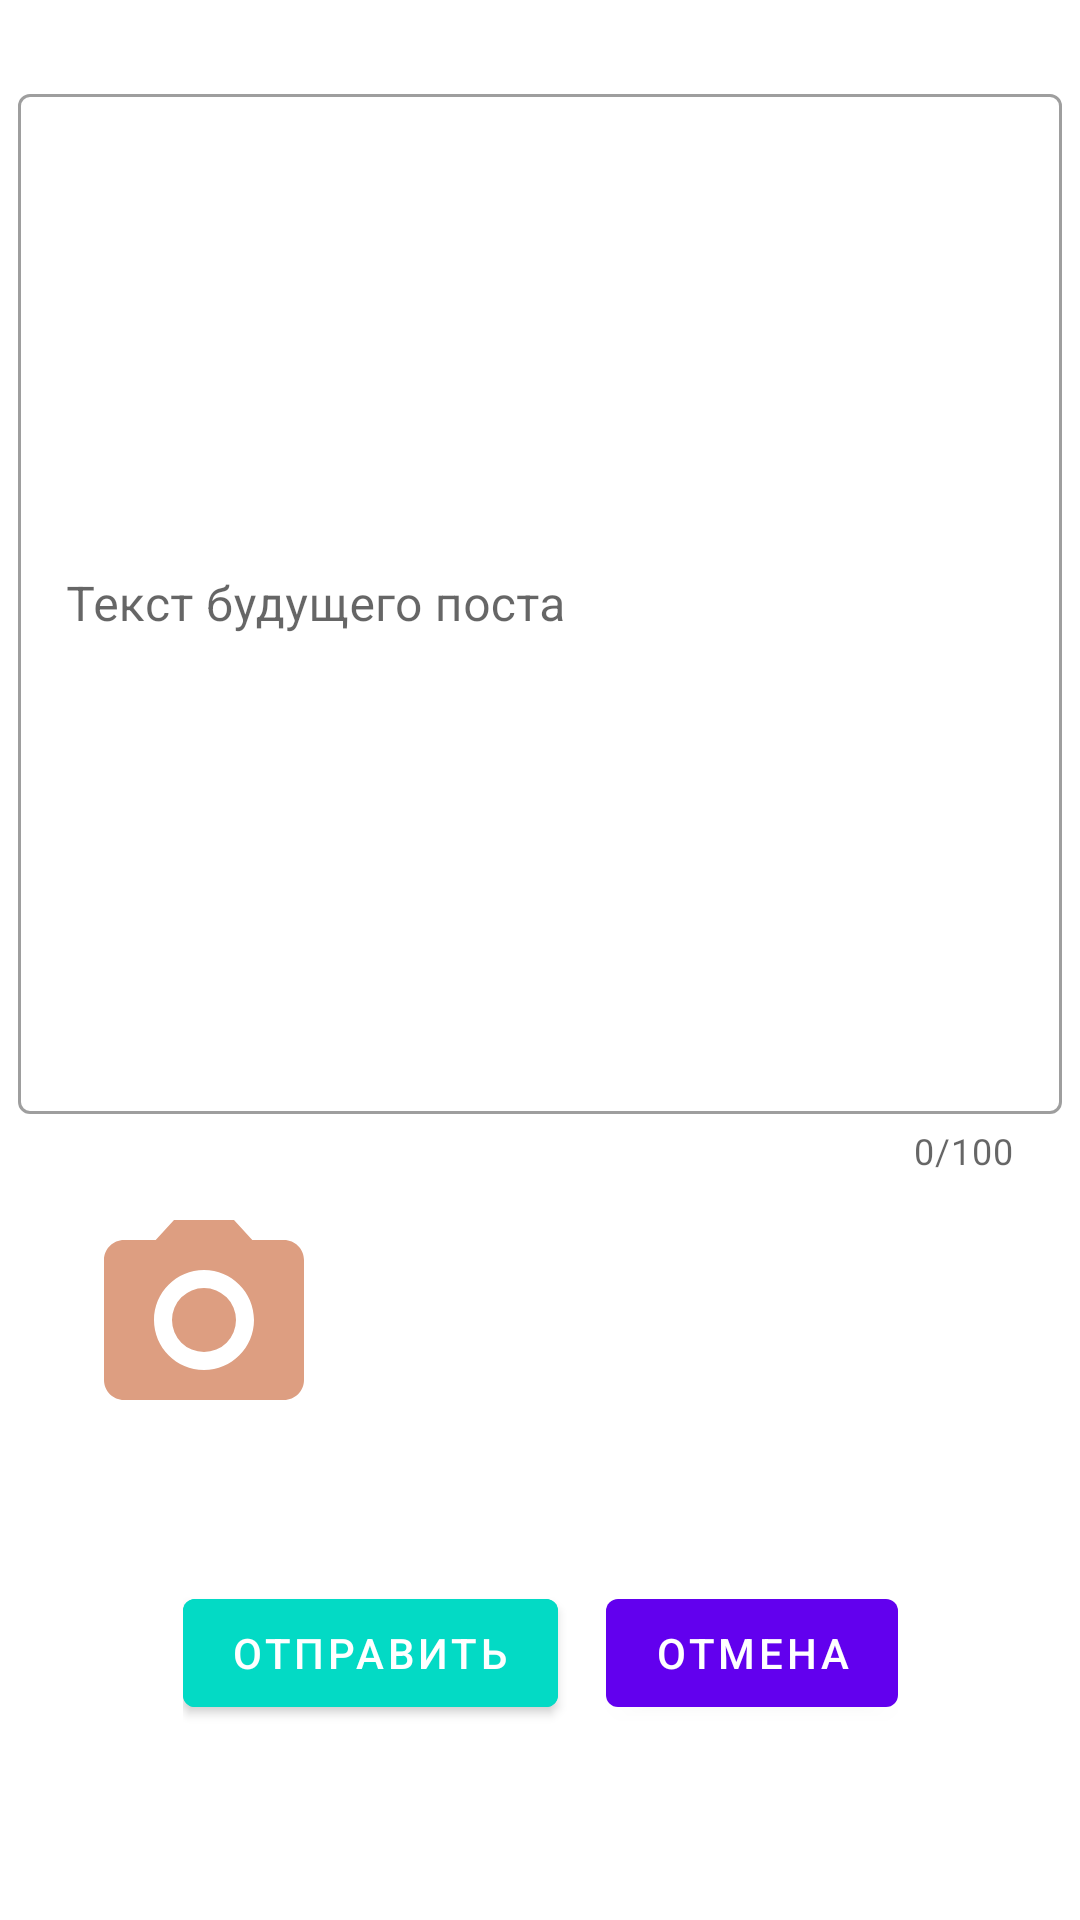

Icon click points for this 1080 x 1920 phone screenshot, format [x,y]:
photo camera: [204,1310]
